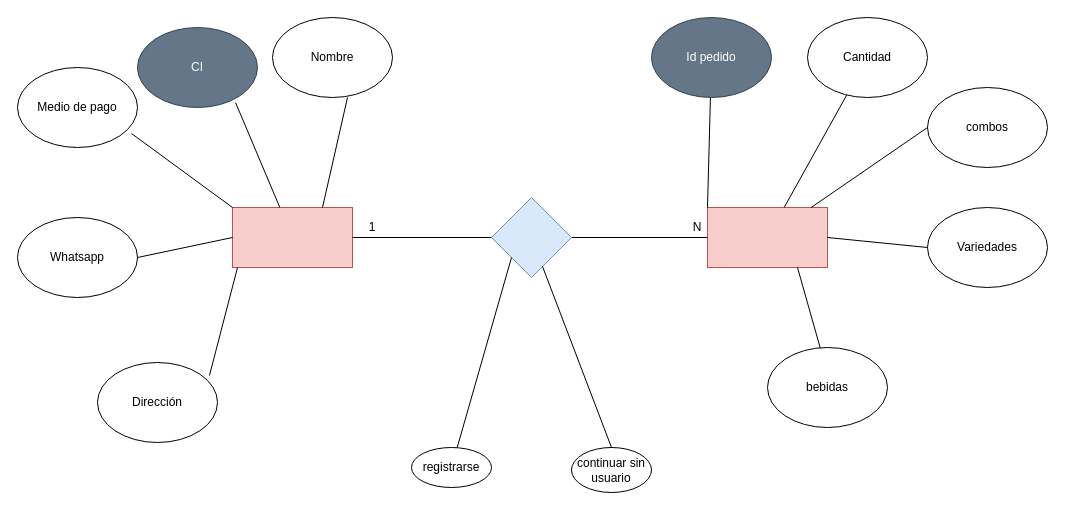
Image size: 1065x510. Some labels were removed from this diagram. Here are the shapes that lost their labels. From the top down, the centre of each, then its label:
point (292, 237): cliente
point (531, 237): Compra
point (767, 237): Menu
